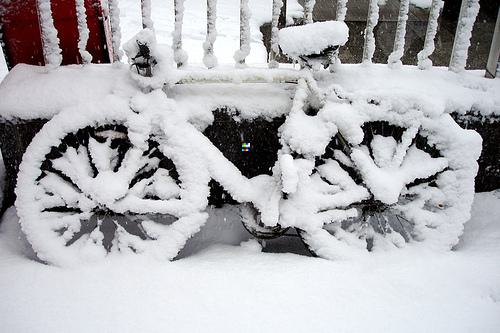car: (11, 18, 481, 276)
